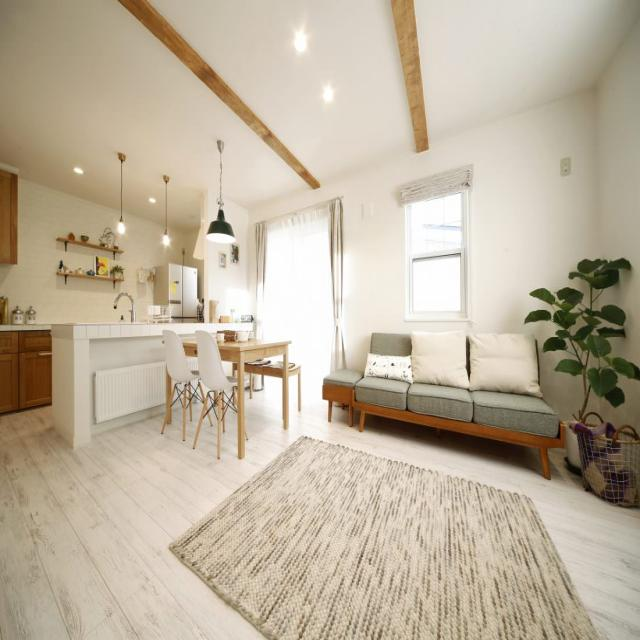natural chair: (194, 329, 252, 462), (160, 332, 198, 444)
natural desk: (162, 340, 294, 466)
natural sofa: (349, 326, 567, 484)
